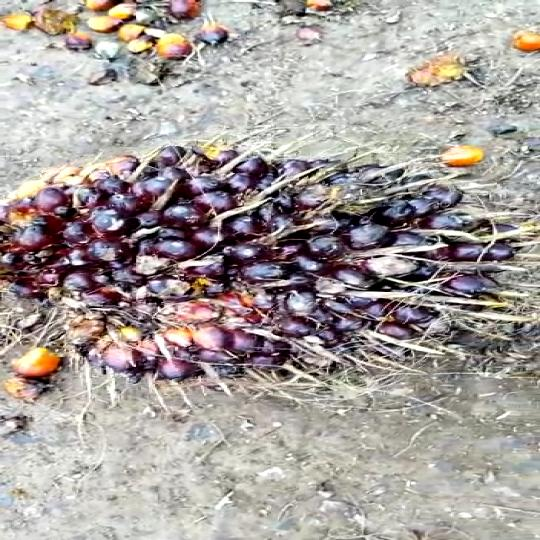mentah: (0, 133, 529, 408)
